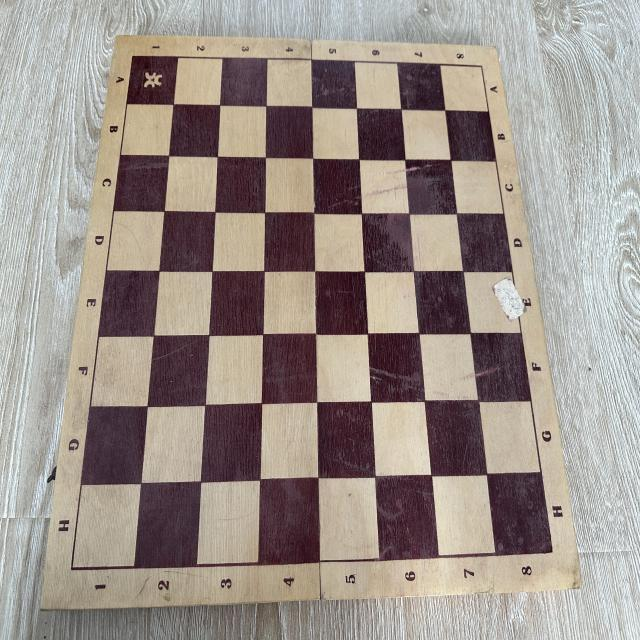chess-table-corners: (121, 41, 144, 72), (61, 554, 82, 582), (474, 55, 488, 78), (545, 540, 559, 562)
